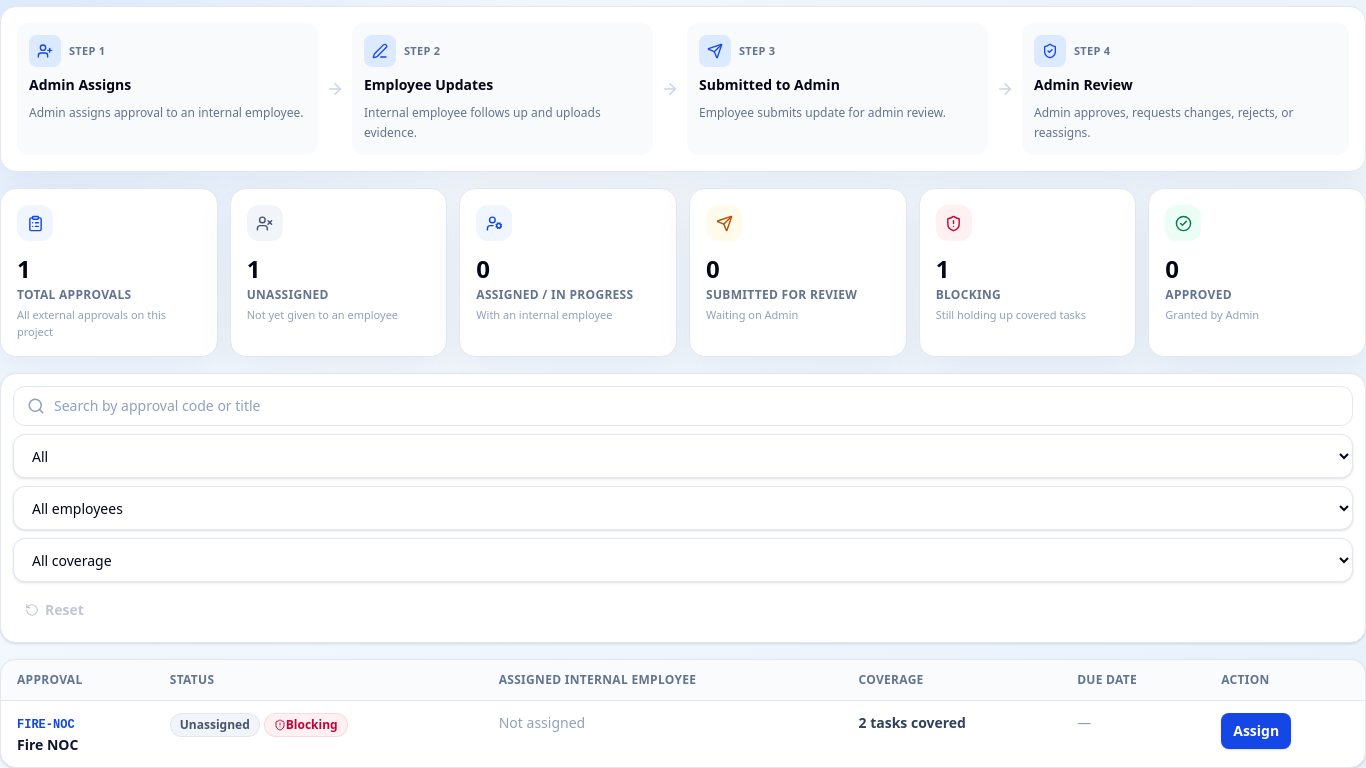
Test: ExternalApprovalsPanel › surfaces an assignment failure inline without closing the modal
(page scrolled)
Click the button "Assign": (1256, 731) left=1221, top=713, right=1291, bottom=749
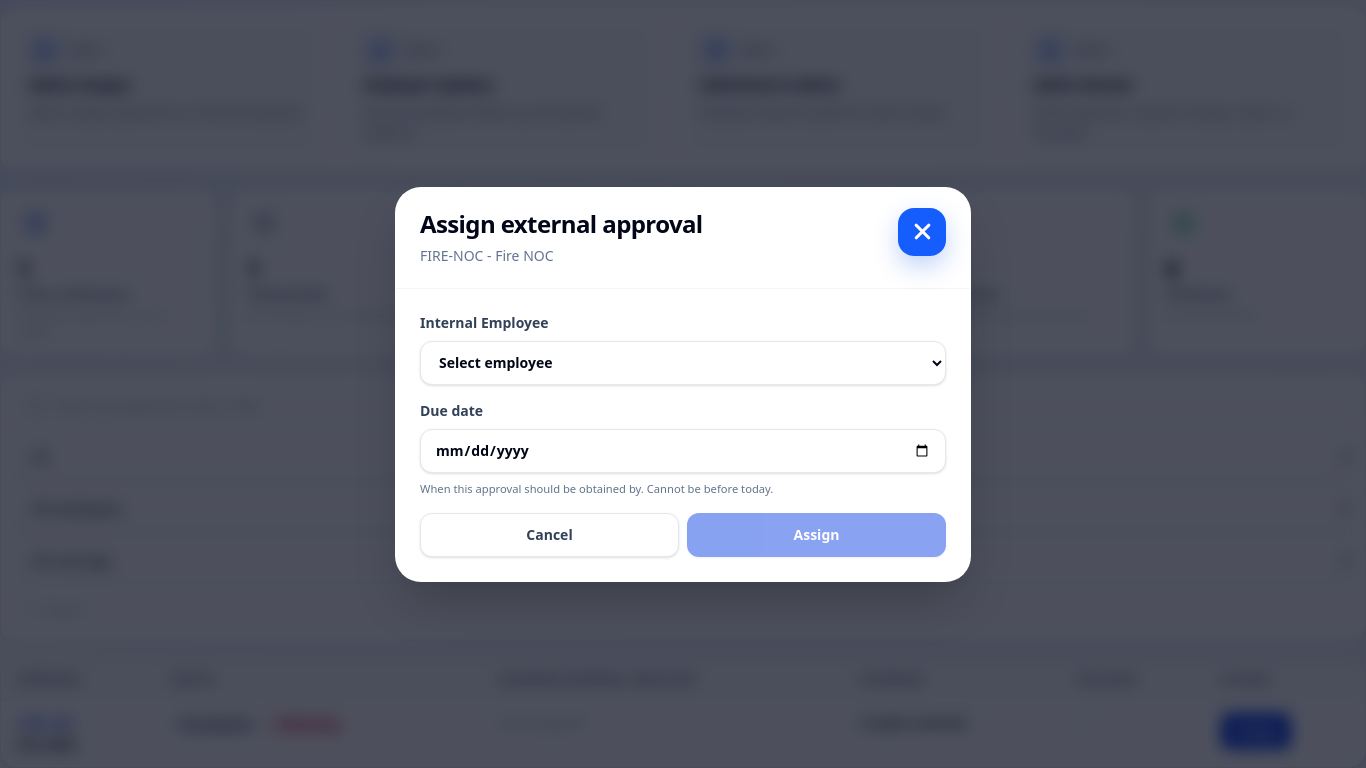
Select "u-emp" in the dropdown: (683, 362) left=420, top=340, right=946, bottom=384
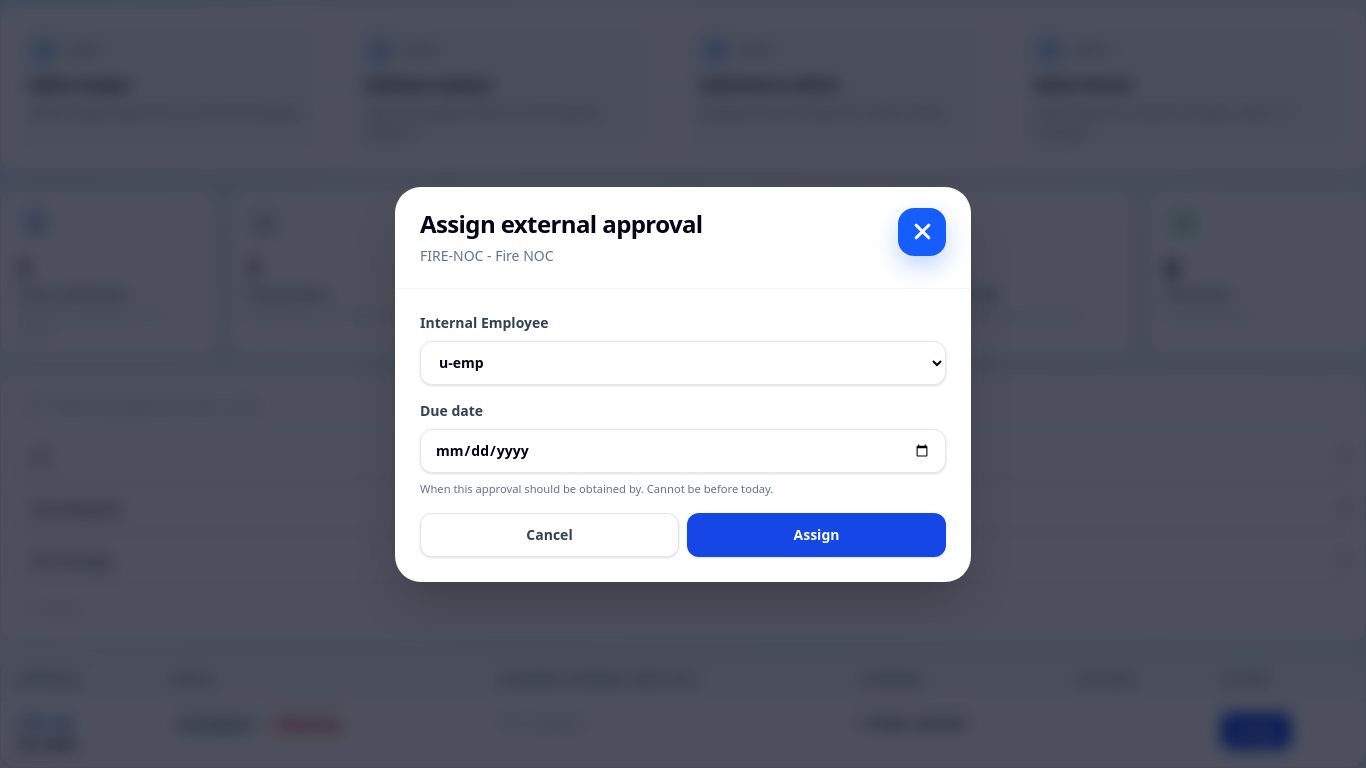
Click the button "Assign": (816, 534) left=687, top=512, right=946, bottom=556
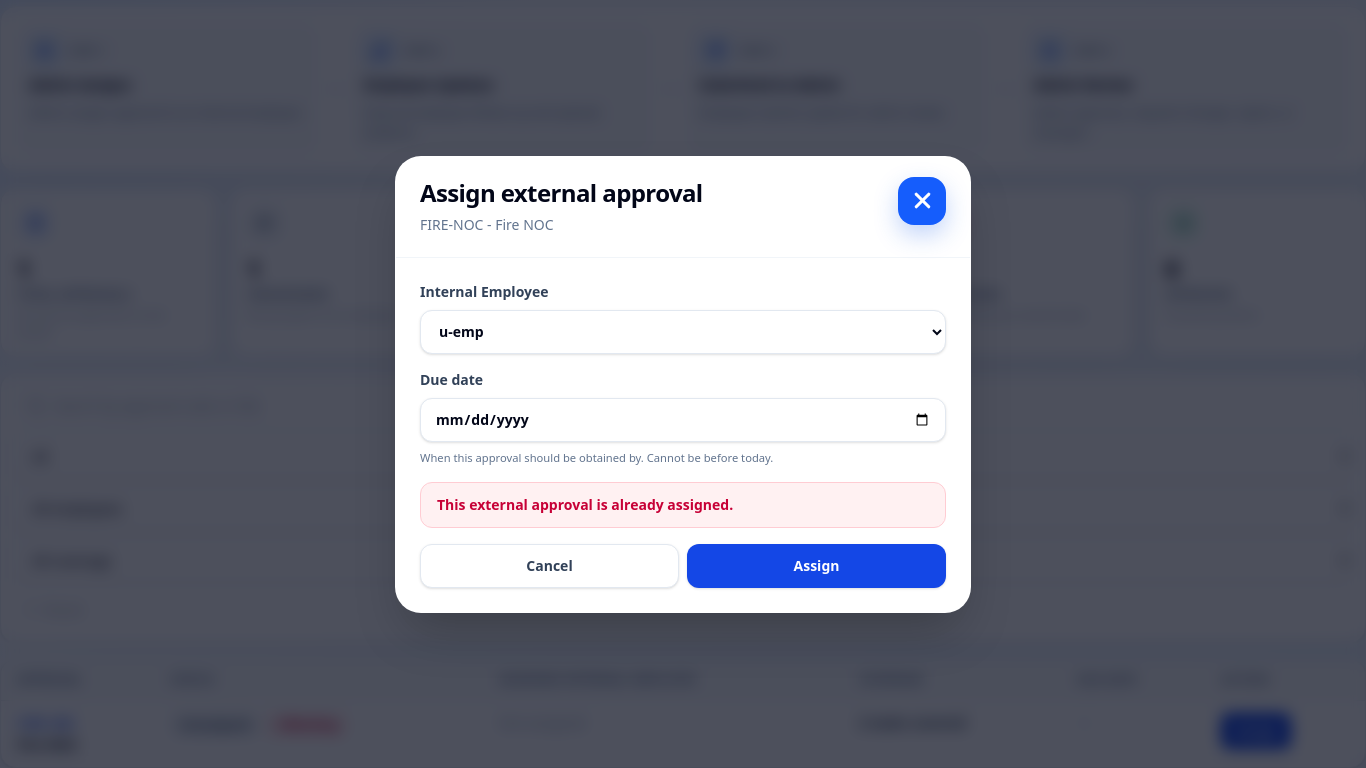
Expected: the message shows "already assigned", left=437, top=494, right=733, bottom=514
